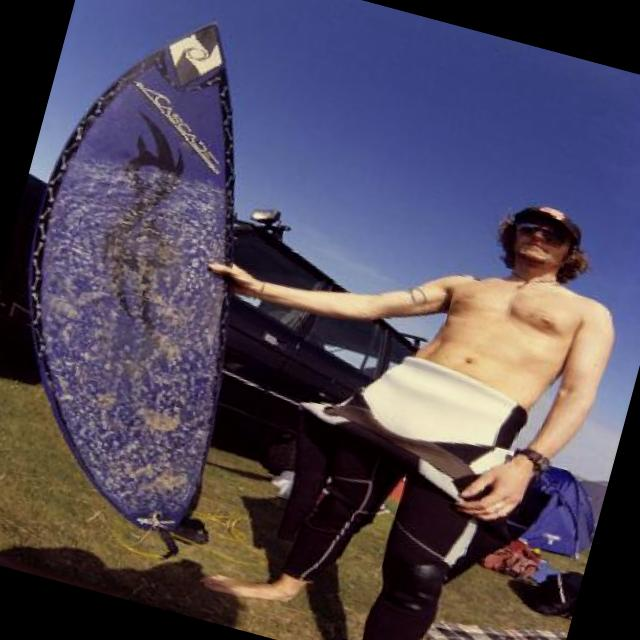Person: (122, 124, 640, 640)
